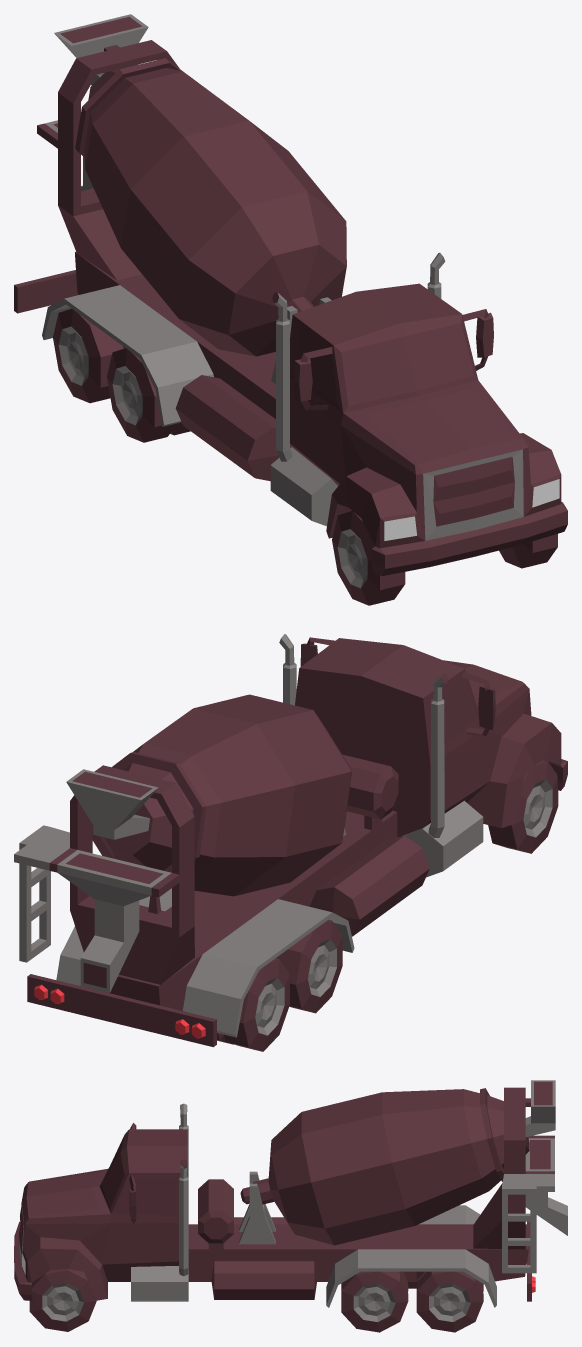
The model's file is car-truck-cement.fbx.
3 views of the same model, one above another, from view 1: azimuth 30°, elevation 25°; view 2: azimuth 150°, elevation 25°; view 3: azimuth 270°, elevation 25° (orthographic). The views are drawn at different scales.
Parts seen in each view (by area): view 1: car-truck-cement-base, car-truck-cement-mixer, car-truck-cement-wheel_BR2, car-truck-cement-wheel_BR1, car-truck-cement-wheel_FR, car-truck-cement-wheel_FL; view 2: car-truck-cement-base, car-truck-cement-mixer, car-truck-cement-wheel_BR1, car-truck-cement-wheel_BR2, car-truck-cement-wheel_FR; view 3: car-truck-cement-base, car-truck-cement-mixer, car-truck-cement-wheel_BL2, car-truck-cement-wheel_BL1, car-truck-cement-wheel_FL.
Part boxes in pixels (x1,y1,x2,y2): car-truck-cement-base: [14, 14, 567, 575]; car-truck-cement-mixer: [75, 58, 346, 356]; car-truck-cement-wheel_BR2: [53, 308, 125, 403]; car-truck-cement-wheel_BR1: [107, 348, 190, 442]; car-truck-cement-wheel_FR: [332, 511, 405, 605]; car-truck-cement-wheel_FL: [499, 534, 557, 568]; car-truck-cement-base: [14, 634, 567, 1047]; car-truck-cement-mixer: [92, 694, 352, 896]; car-truck-cement-wheel_BR1: [276, 919, 342, 1013]; car-truck-cement-wheel_BR2: [217, 958, 289, 1051]; car-truck-cement-wheel_FR: [488, 760, 558, 853]; car-truck-cement-base: [14, 1080, 567, 1307]; car-truck-cement-mixer: [240, 1088, 529, 1245]; car-truck-cement-wheel_BL2: [416, 1271, 483, 1332]; car-truck-cement-wheel_BL1: [341, 1271, 408, 1332]; car-truck-cement-wheel_FL: [29, 1269, 96, 1331].
Bounding box in the file's own units: 2.59 × 3.7 × 8.93.
